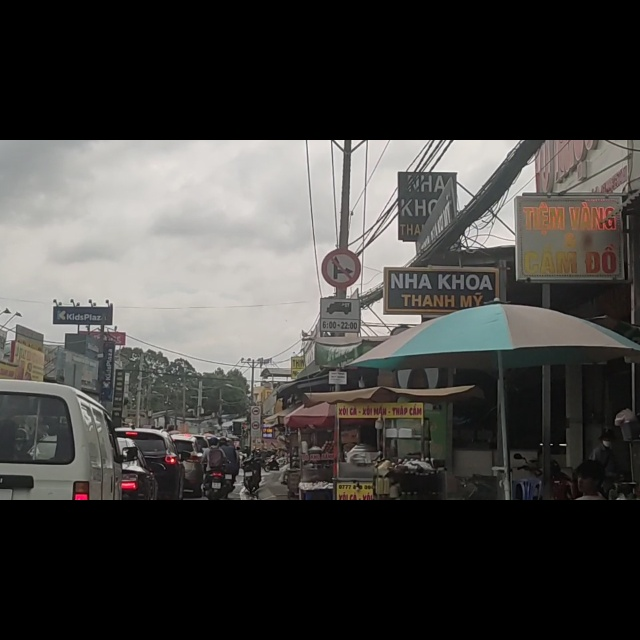bien_cam: (321, 194, 359, 263), (321, 282, 358, 341)
